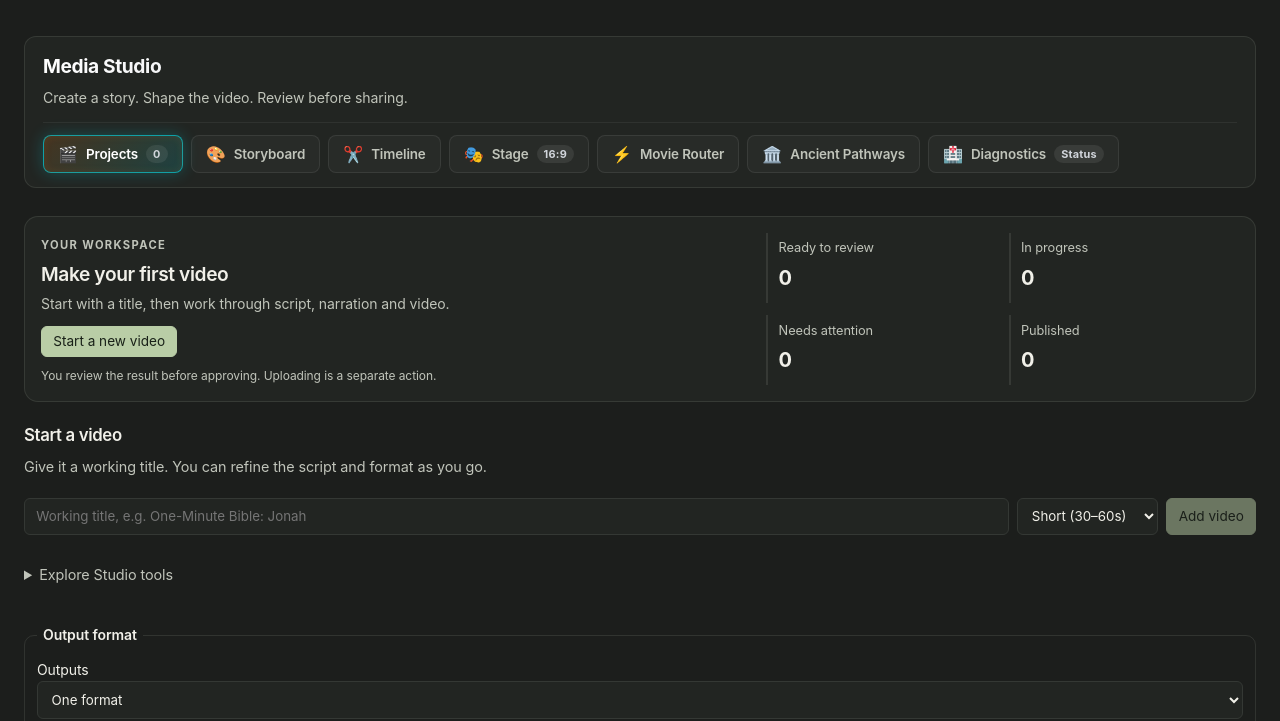
Test: successful creation selects and focuses the new project so its next action is reachable
Type "Video created" into the field named "New video title".
click(517, 516); type("Video created")  # box [24,498,1009,535]
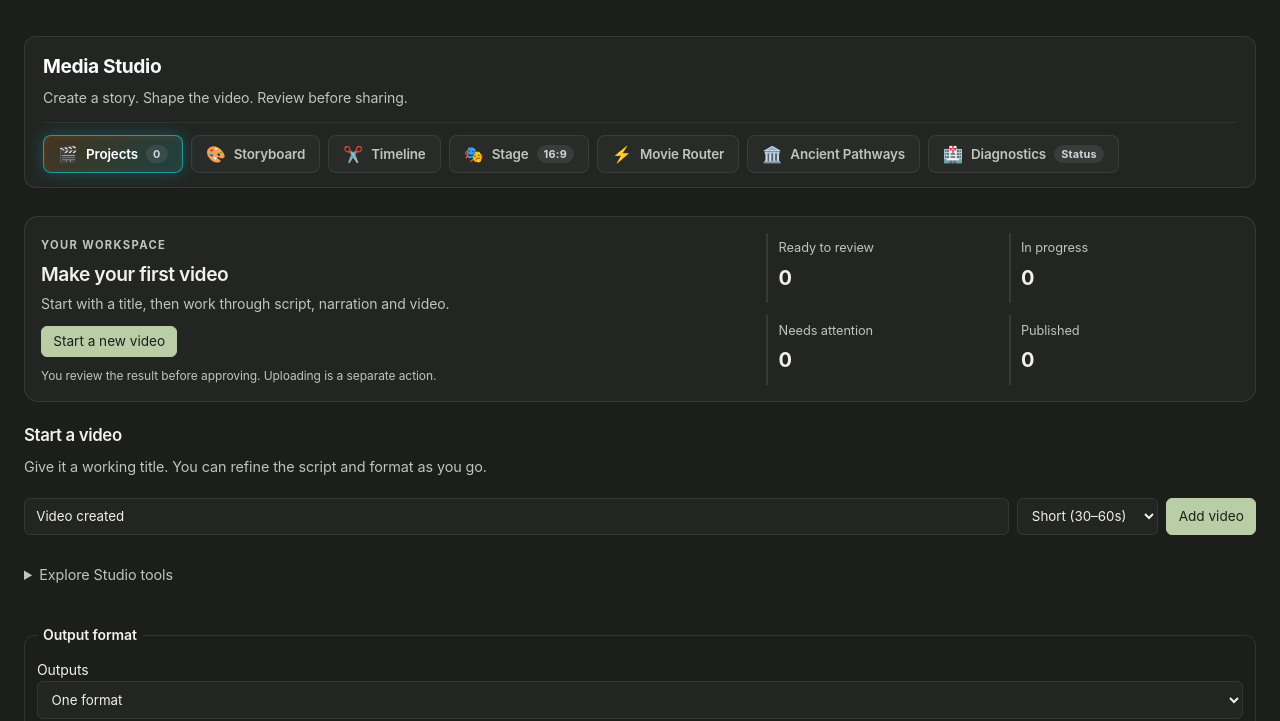
Click the button "Add video".
click(1211, 516)  # box [1166,498,1256,535]
(page scrolled)
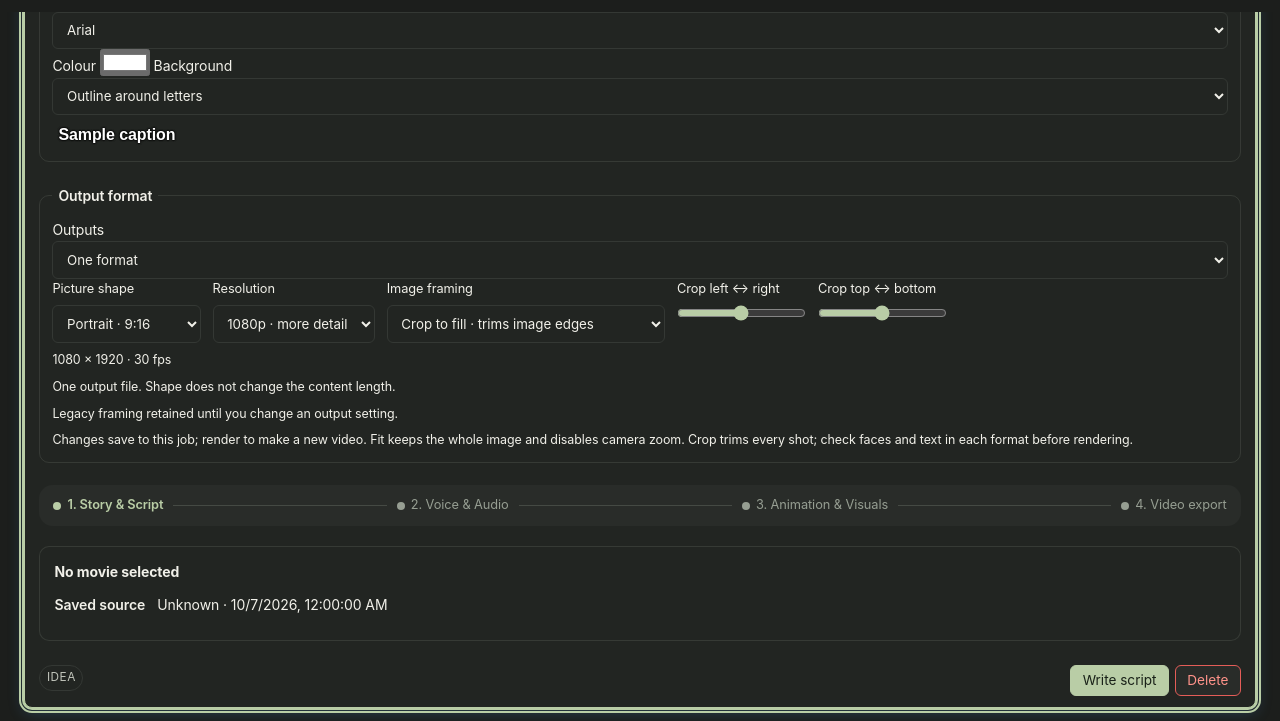
Check: the button "Write script" is shown, box [1070,665,1169,696]
